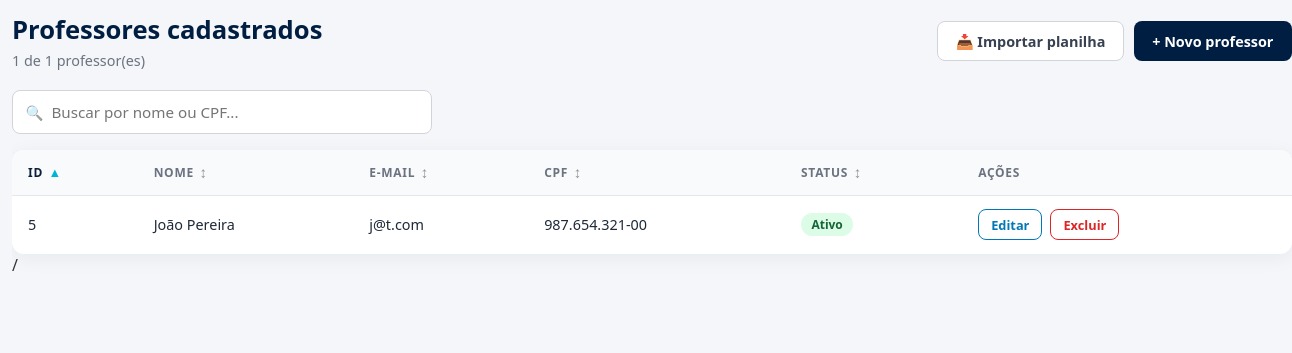
Test: lista de Professores › erro na exclusão sem mensagem do servidor mostra um texto padrão
Click the button "Excluir" at (1085,225), box [1050, 209, 1119, 240]
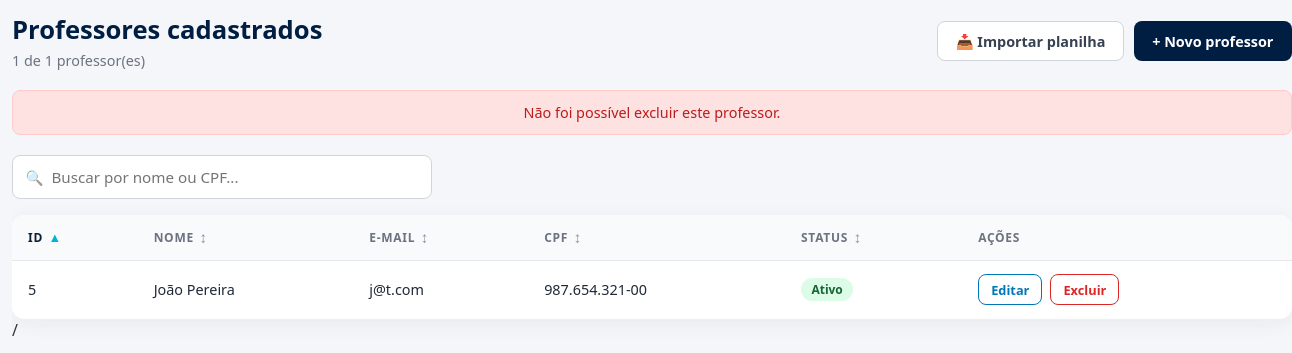
Now the text "Não foi possível excluir este professor." is shown, box [12, 90, 1291, 135]
